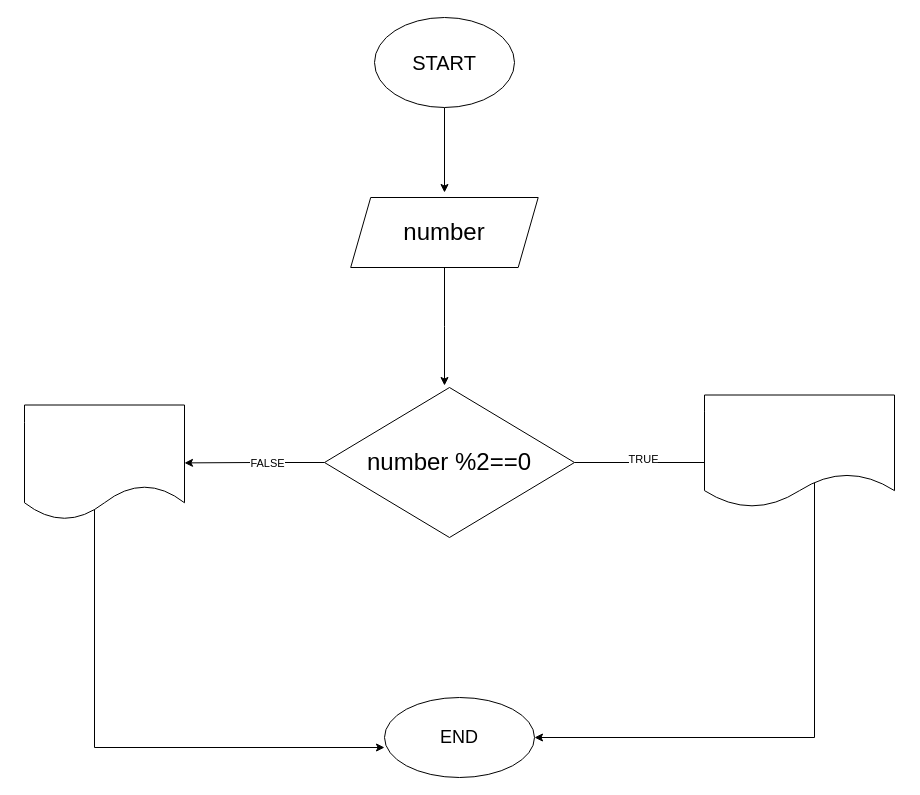
Image size: 920x795. Some labels were removed from this diagram. Each missing label, with the centre of its shape:
Daxil edilən ədəd cüt ədəddir.: pixel 799 451
Daxil edilən ədəd tək ədəddir.: pixel 104 462
